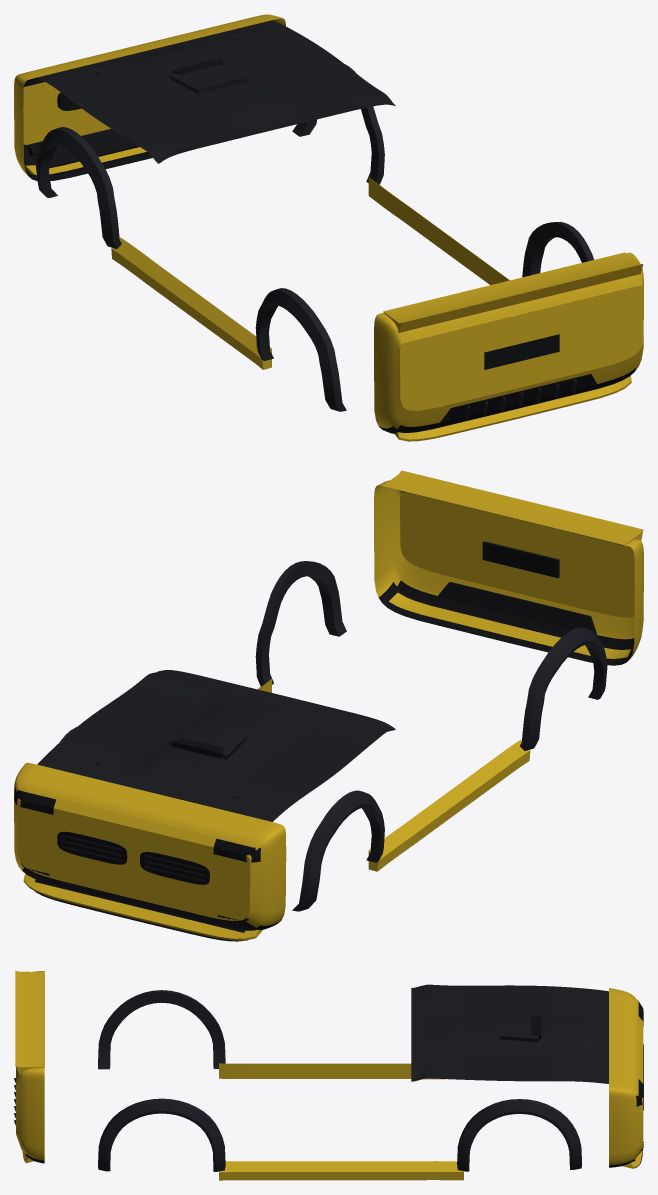
Rendered from kit_drift.glb.
3 renders of one model, top to bottom at view 1: azimuth 30°, elevation 25°; view 2: azimuth 150°, elevation 25°; view 3: azimuth 270°, elevation 25°, orthographic. The views are drawn at different scales.
Parts seen in each view (by area): view 1: hood__drift, bumper_front__drift, skirts__drift, bumper_rear__drift, spoiler__drift; view 2: bumper_front__drift, hood__drift, bumper_rear__drift, skirts__drift, spoiler__drift; view 3: hood__drift, skirts__drift, bumper_front__drift, spoiler__drift, bumper_rear__drift.
Part boxes in pixels (x1,y1,x2,y2): hood__drift: [37, 20, 395, 163]; bumper_front__drift: [14, 14, 643, 410]; skirts__drift: [36, 64, 593, 411]; bumper_rear__drift: [374, 252, 643, 441]; spoiler__drift: [383, 252, 643, 332]; bumper_front__drift: [14, 492, 634, 941]; hood__drift: [37, 670, 395, 821]; bumper_rear__drift: [374, 480, 643, 665]; skirts__drift: [60, 561, 607, 911]; spoiler__drift: [383, 470, 643, 544]; hood__drift: [411, 984, 608, 1083]; skirts__drift: [98, 990, 581, 1180]; bumper_front__drift: [609, 988, 643, 1168]; spoiler__drift: [15, 970, 44, 1075]; bumper_rear__drift: [14, 971, 44, 1163].
Size of what is drawn, in the model's own units: 2.09 by 0.9328 by 4.84.
